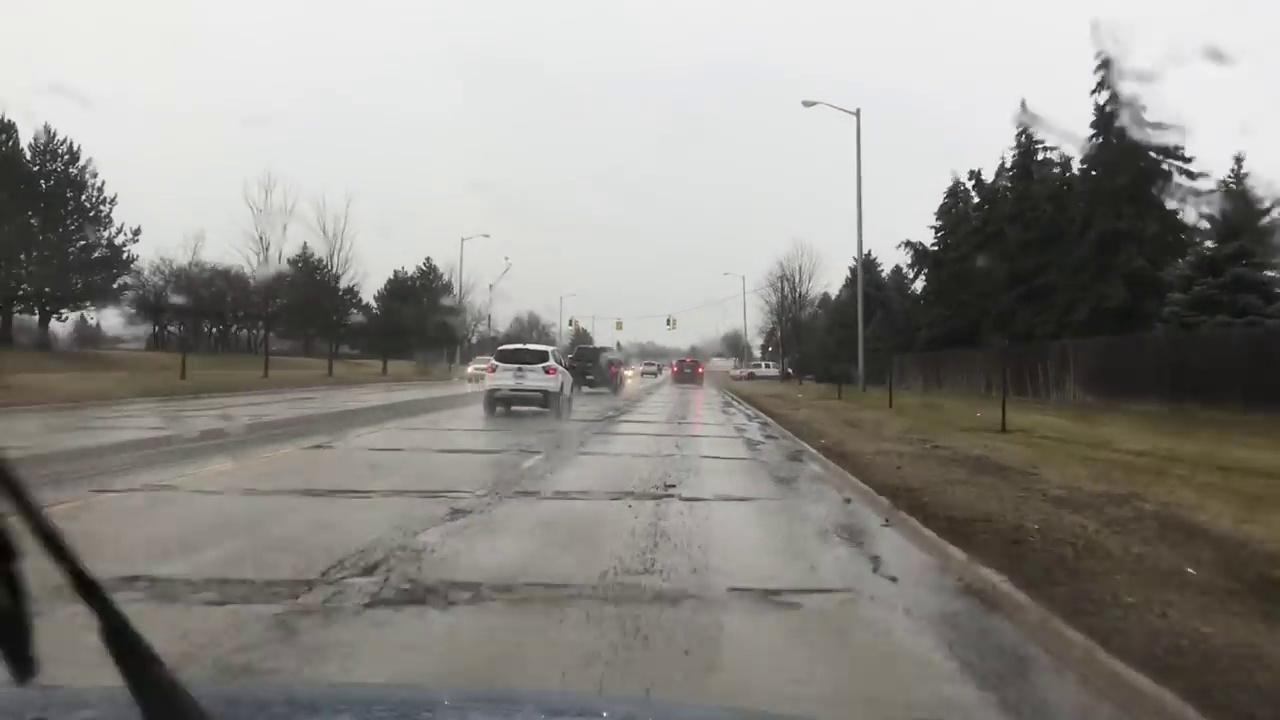pothole: (664, 483, 677, 490)
